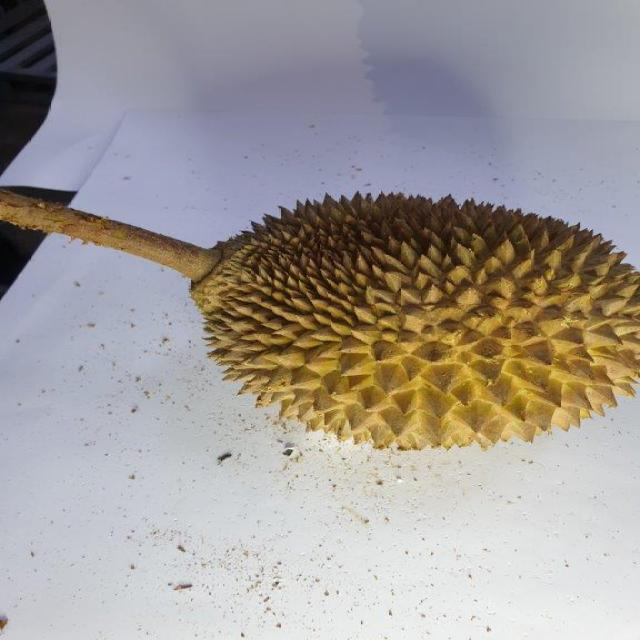mature: (195, 190, 640, 452)
